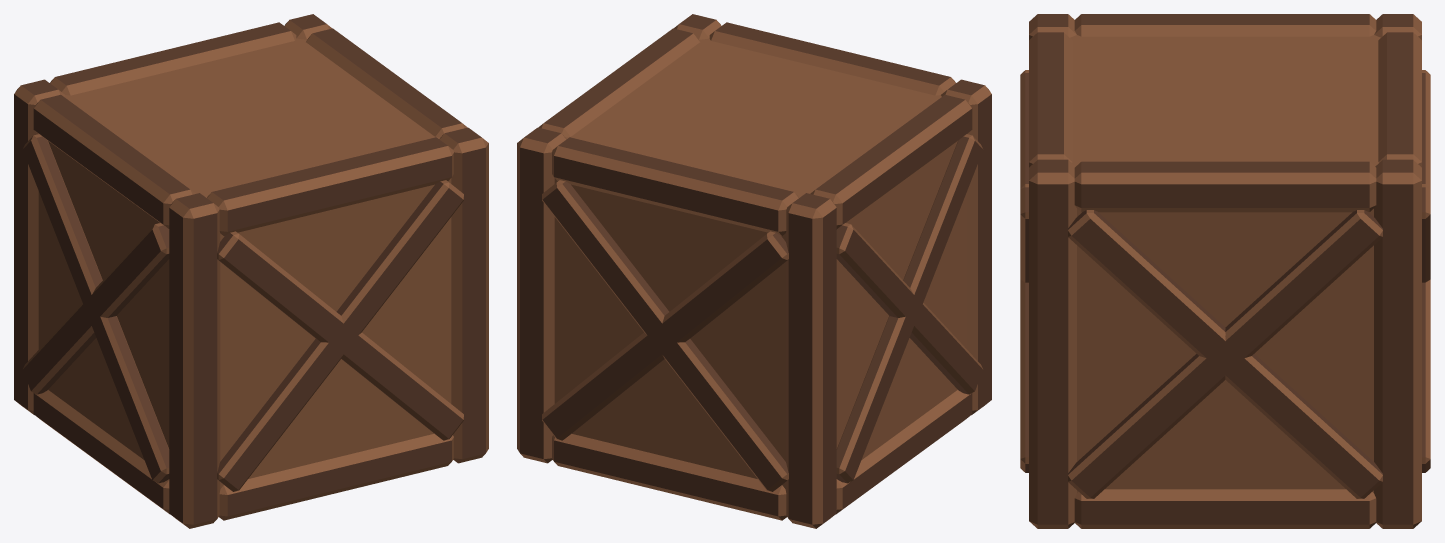
Rendered from crate.glb.
3 views of the same model, side by side, from view 1: azimuth 30°, elevation 25°; view 2: azimuth 150°, elevation 25°; view 3: azimuth 270°, elevation 25° (orthographic). The views are drawn at different scales.
Visible parts, largest first — view 1: crate; view 2: crate; view 3: crate.
Part boxes in pixels (box(x1,y1,x2,y2)): crate: box(14, 14, 488, 528); crate: box(517, 14, 991, 528); crate: box(1020, 14, 1430, 528).
Size of the model in its own units: 0.94 by 0.9 by 0.94.
